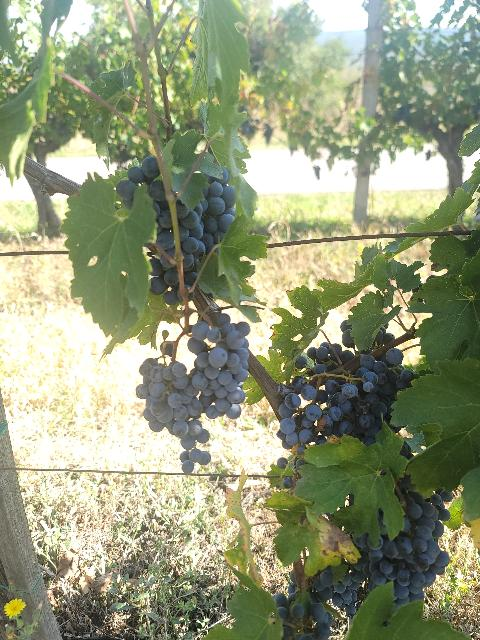grapes: (366, 475, 451, 604), (322, 349, 414, 445), (135, 358, 211, 474), (188, 314, 250, 419)
